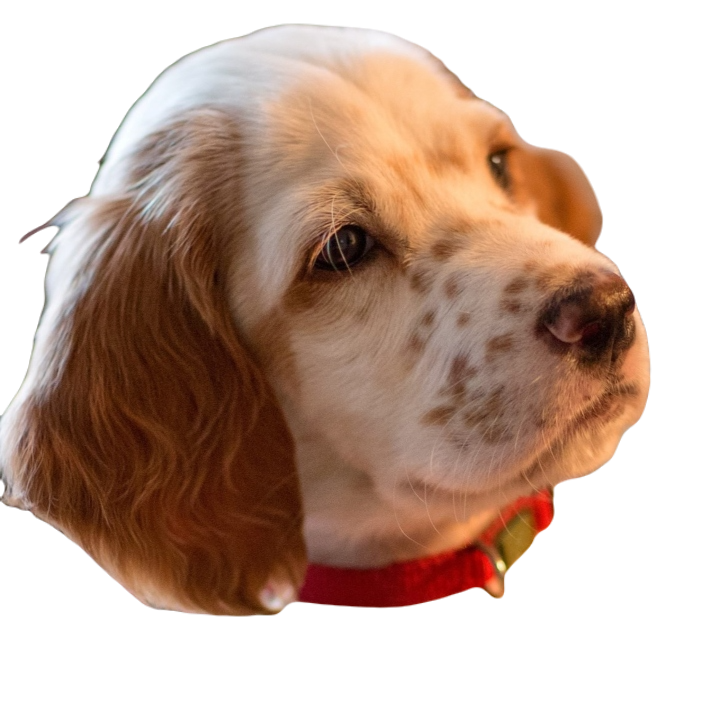Dog: (0, 17, 653, 612)
